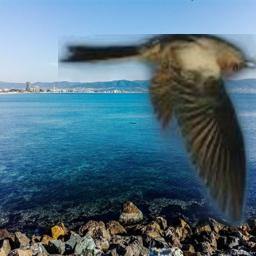Cuckoo: (58, 34, 256, 226)
